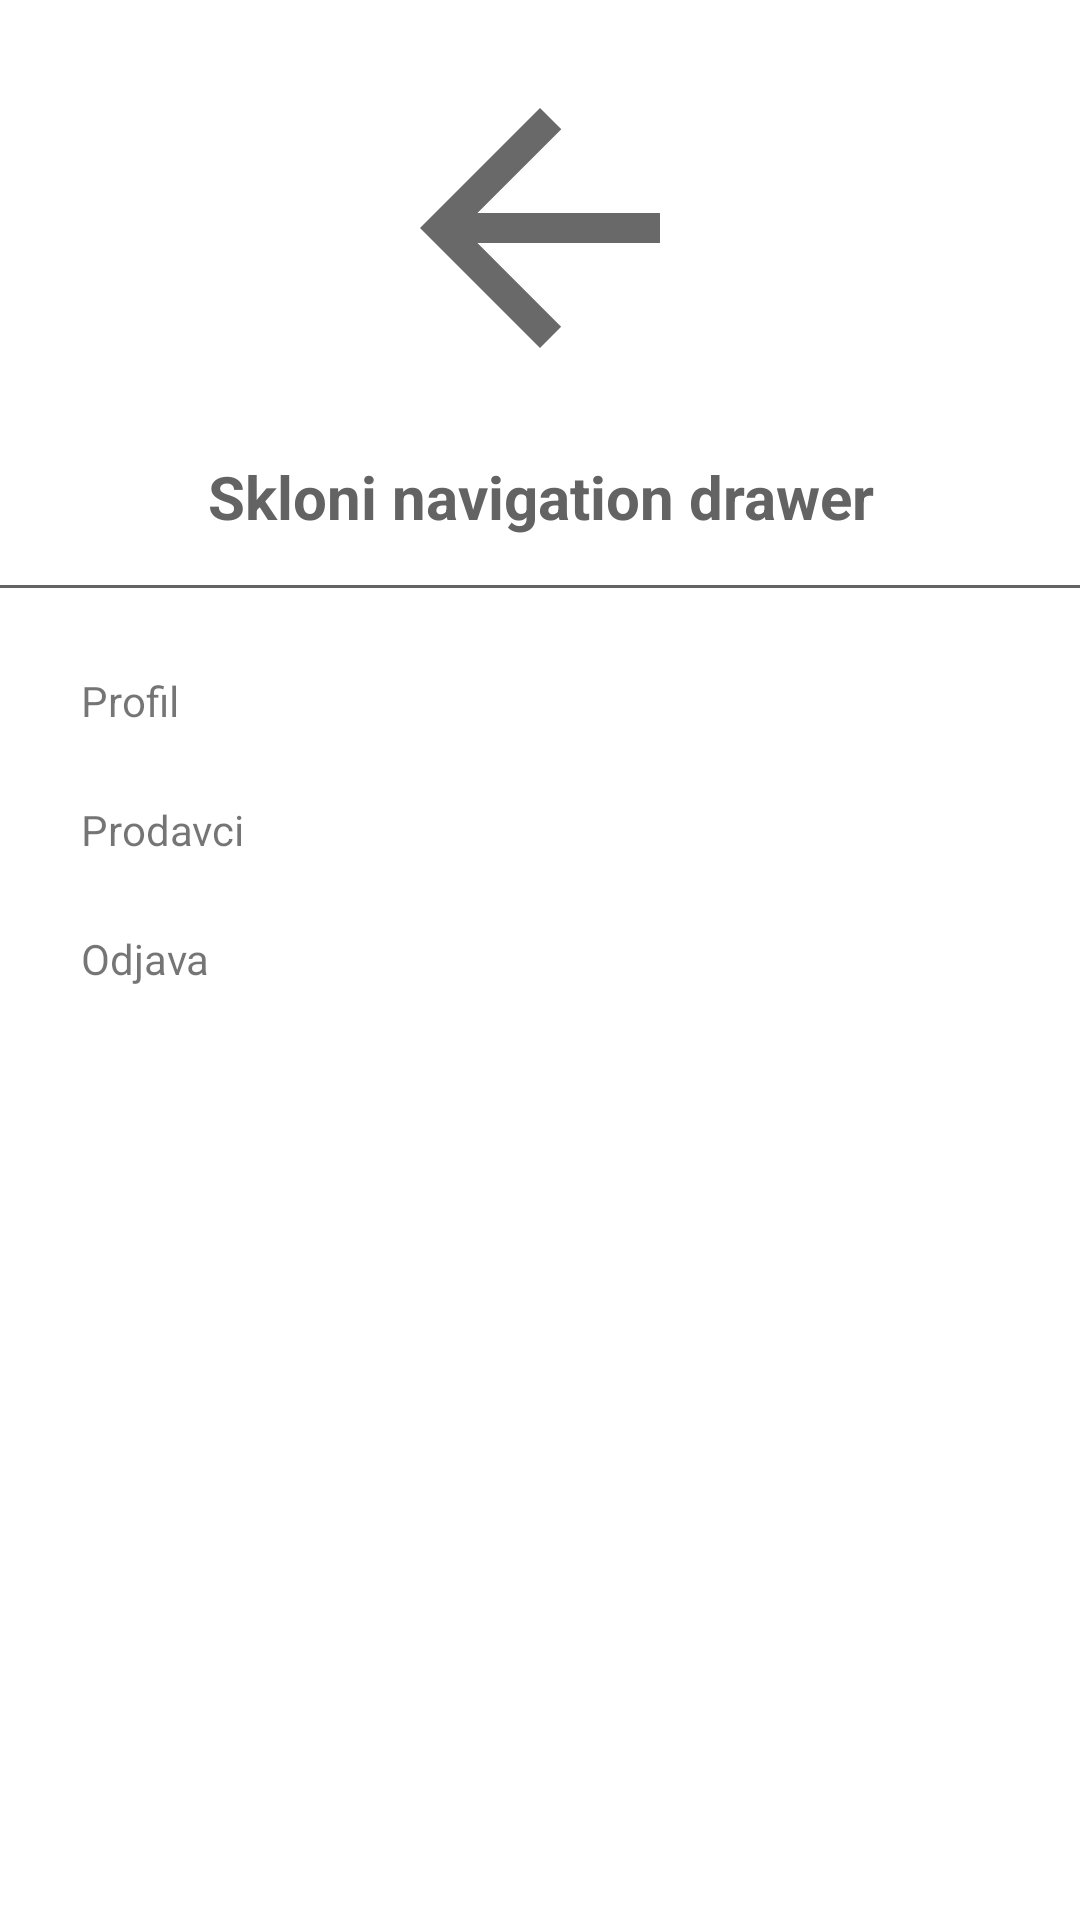

Icons on this 1080px×1920px Android screen, each with the point to tap as (x=x, y=y):
back: (x=540, y=228)
